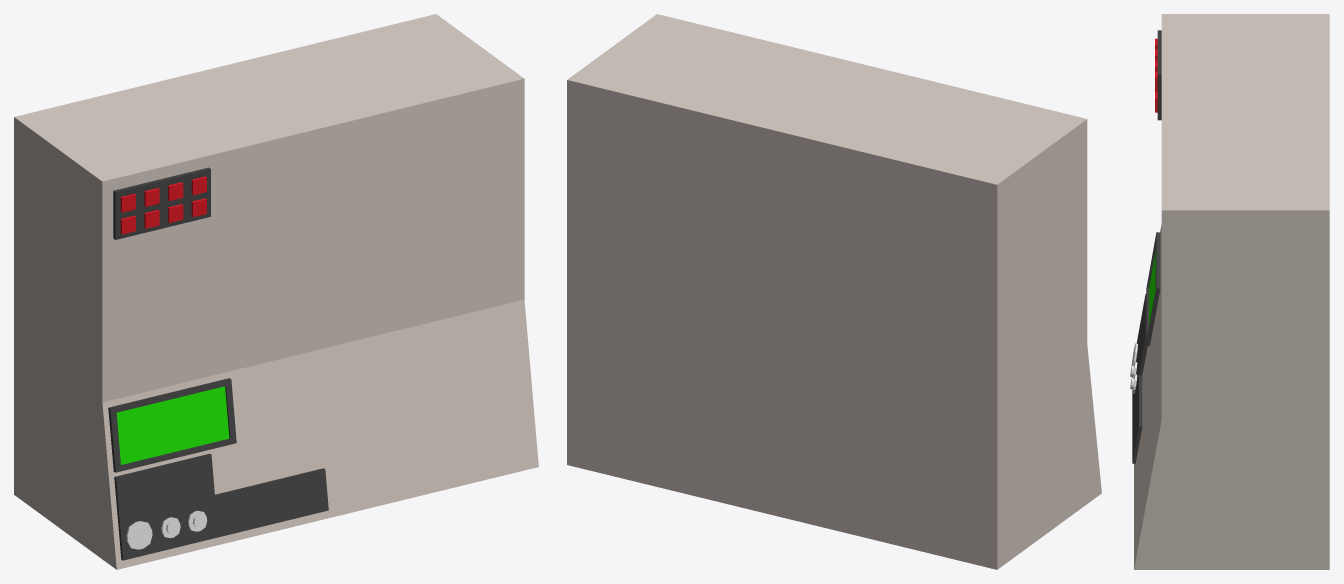
The model's file is SM_Desk_Panel_01.fbx.
3 renders of one model, left to right at view 1: azimuth 30°, elevation 25°; view 2: azimuth 150°, elevation 25°; view 3: azimuth 270°, elevation 25°, orthographic. The views are drawn at different scales.
Parts seen in each view (by area): view 1: Panel_Body, BottomPanel|Panel_02|Dupli|, BottomPanel|Panel_03|Dupli|2, Panel_01, Panel_01_Buttons; view 2: Panel_Body; view 3: Panel_Body, BottomPanel|Panel_02|Dupli|, BottomPanel|Panel_03|Dupli|2, Panel_01.
Part boxes in pixels (x1,y1,x2,y2): Panel_Body: (14,14,538,569); BottomPanel|Panel_02|Dupli|: (114,453,328,560); BottomPanel|Panel_03|Dupli|2: (108,378,236,472); Panel_01: (113,167,210,239); Panel_01_Buttons: (120,176,206,234); Panel_Body: (567,14,1101,569); Panel_Body: (1134,14,1329,569); BottomPanel|Panel_02|Dupli|: (1132,294,1147,463); BottomPanel|Panel_03|Dupli|2: (1146,232,1160,345); Panel_01: (1157,30,1161,120).
Size of the model in its own units: 130 by 111 by 55.88.
